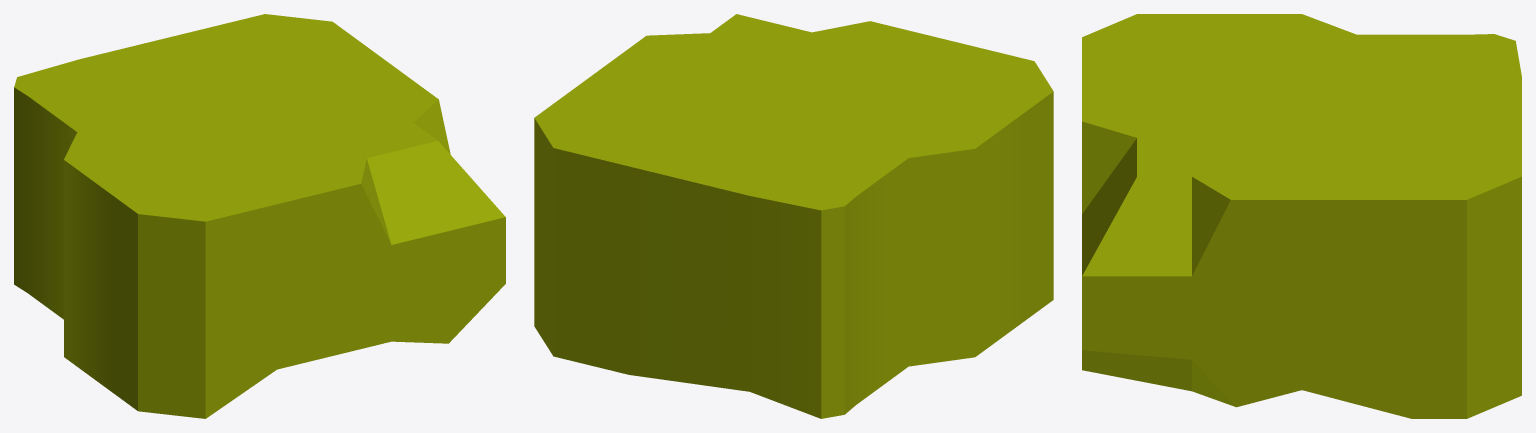
Rendered from Rocks_3.fbx.
3 renders of one model, left to right at view 1: azimuth 30°, elevation 25°; view 2: azimuth 150°, elevation 25°; view 3: azimuth 270°, elevation 25°, orthographic. The views are drawn at different scales.
Parts seen in each view (by area): view 1: MESH_Rocks_3; view 2: MESH_Rocks_3; view 3: MESH_Rocks_3.
Boxes of the visible parts, x1,y1,x2,y2 form: MESH_Rocks_3: (14,14,505,418); MESH_Rocks_3: (534,14,1053,418); MESH_Rocks_3: (1082,14,1521,418).
Bounding box in the file's own units: 4.37 × 2.4 × 4.37.
